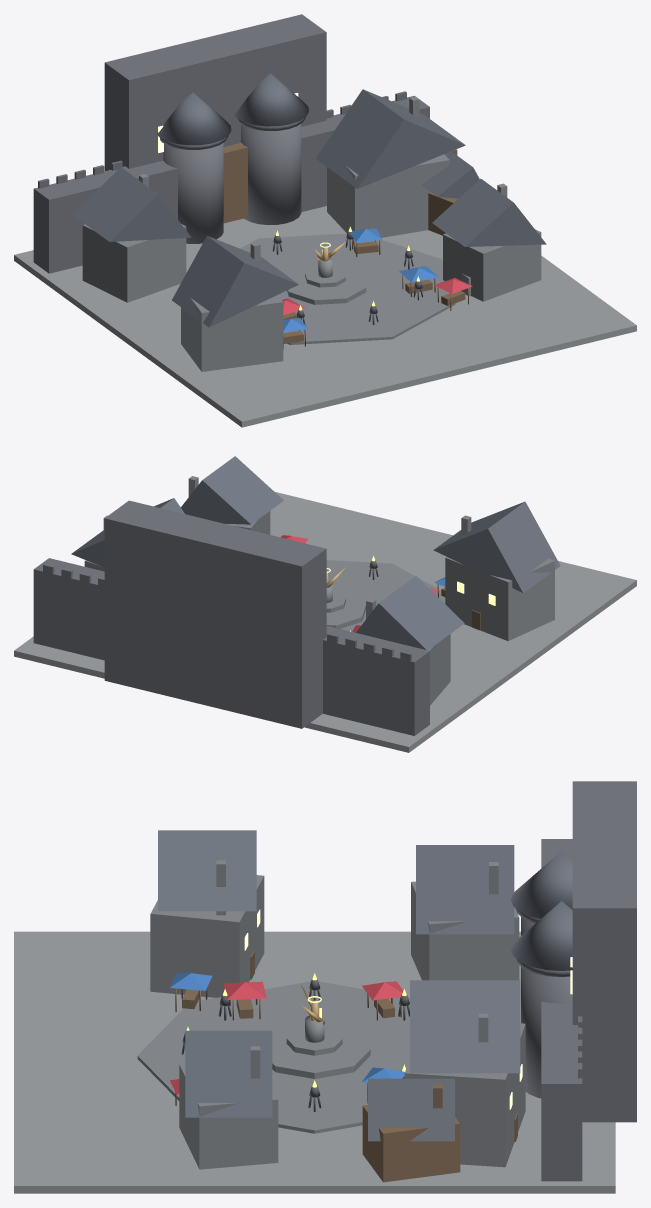
Rendered from lorencia_citadel.glb.
3 views of the same model, one above another, from view 1: azimuth 30°, elevation 25°; view 2: azimuth 150°, elevation 25°; view 3: azimuth 270°, elevation 25° (orthographic). The views are drawn at different scales.
Parts seen in each view (by area): view 1: Lorencia_GroundTotal, Lorencia_CastleKeep, Lorencia_PlazaTier, Lorencia_Tavern_Main_Roof, Lorencia_GuardArmory_Roof, Lorencia_NorthWall_L_Body, Lorencia_Tavern_Main_Walls, Lorencia_PotionShop_Walls, Lorencia_GuardArmory_Walls, Lorencia_GateTower_R_Tower, Lorencia_PotionShop_Roof, Lorencia_Forge_Main_Roof (+10 smaller); view 2: Lorencia_CastleKeep, Lorencia_GroundTotal, Lorencia_NorthWall_L_Body, Lorencia_NorthWall_R_Body, Lorencia_GuardArmory_Roof, Lorencia_GuardArmory_Walls, Lorencia_PotionShop_Roof, Lorencia_Forge_Main_Roof, Lorencia_PlazaTier, Lorencia_PotionShop_Walls, Lorencia_Tavern_Main_Roof, Lorencia_FountainBasin; view 3: Lorencia_GroundTotal, Lorencia_CastleKeep, Lorencia_PlazaTier, Lorencia_Tavern_Main_Roof, Lorencia_GuardArmory_Walls, Lorencia_PotionShop_Roof, Lorencia_GuardArmory_Roof, Lorencia_Forge_Main_Roof, Lorencia_NorthWall_R_Body, Lorencia_Tavern_Main_Walls, Lorencia_PotionShop_Walls, Lorencia_Forge_Main_Walls (+11 smaller).
Boxes of the visible parts, x1=… form: Lorencia_GroundTotal: x1=14, y1=206, x2=636, y2=427; Lorencia_CastleKeep: x1=104, y1=14, x2=326, y2=170; Lorencia_PlazaTier: x1=240, y1=233, x2=455, y2=344; Lorencia_Tavern_Main_Roof: x1=315, y1=89, x2=465, y2=188; Lorencia_GuardArmory_Roof: x1=172, y1=236, x2=298, y2=327; Lorencia_NorthWall_L_Body: x1=33, y1=160, x2=177, y2=273; Lorencia_Tavern_Main_Walls: x1=327, y1=154, x2=449, y2=237; Lorencia_PotionShop_Walls: x1=82, y1=224, x2=186, y2=302; Lorencia_GuardArmory_Walls: x1=181, y1=295, x2=283, y2=371; Lorencia_GateTower_R_Tower: x1=241, y1=124, x2=301, y2=224; Lorencia_PotionShop_Roof: x1=72, y1=167, x2=191, y2=241; Lorencia_Forge_Main_Roof: x1=432, y1=179, x2=546, y2=246; Lorencia_CastleKeep: x1=104, y1=500, x2=326, y2=728; Lorencia_GroundTotal: x1=14, y1=492, x2=636, y2=752; Lorencia_NorthWall_L_Body: x1=323, y1=626, x2=429, y2=735; Lorencia_NorthWall_R_Body: x1=33, y1=558, x2=104, y2=660; Lorencia_GuardArmory_Roof: x1=433, y1=501, x2=560, y2=593; Lorencia_GuardArmory_Walls: x1=445, y1=557, x2=554, y2=641; Lorencia_PotionShop_Roof: x1=356, y1=576, x2=464, y2=650; Lorencia_Forge_Main_Roof: x1=181, y1=456, x2=283, y2=524; Lorencia_PlazaTier: x1=326, y1=560, x2=445, y2=631; Lorencia_PotionShop_Walls: x1=428, y1=634, x2=450, y2=705; Lorencia_Tavern_Main_Roof: x1=71, y1=498, x2=184, y2=567; Lorencia_FountainBasin: x1=326, y1=592, x2=365, y2=628; Lorencia_GroundTotal: x1=14, y1=931, x2=615, y2=1193; Lorencia_CastleKeep: x1=572, y1=781, x2=636, y2=1122; Lorencia_PlazaTier: x1=137, y1=981, x2=409, y2=1133; Lorencia_Tavern_Main_Roof: x1=410, y1=980, x2=520, y2=1073; Lorencia_GuardArmory_Walls: x1=150, y1=875, x2=264, y2=997; Lorencia_PotionShop_Roof: x1=416, y1=845, x2=514, y2=934; Lorencia_GuardArmory_Roof: x1=158, y1=830, x2=256, y2=911; Lorencia_Forge_Main_Roof: x1=185, y1=1030, x2=272, y2=1117; Lorencia_NorthWall_R_Body: x1=541, y1=1001, x2=582, y2=1181; Lorencia_Tavern_Main_Walls: x1=404, y1=1023, x2=525, y2=1167; Lorencia_PotionShop_Walls: x1=411, y1=881, x2=519, y2=980; Lorencia_Forge_Main_Walls: x1=179, y1=1063, x2=278, y2=1169.
Bounding box in the file's own units: 56 × 22.8 × 58.
